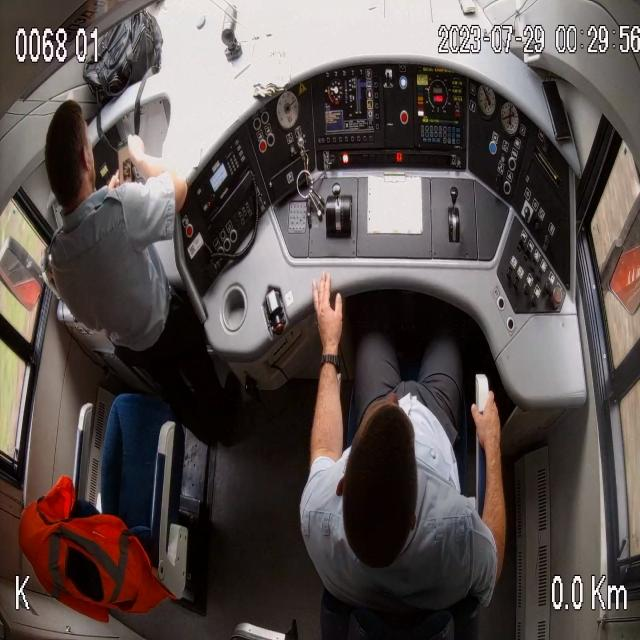smartphone: (116, 133, 139, 190)
